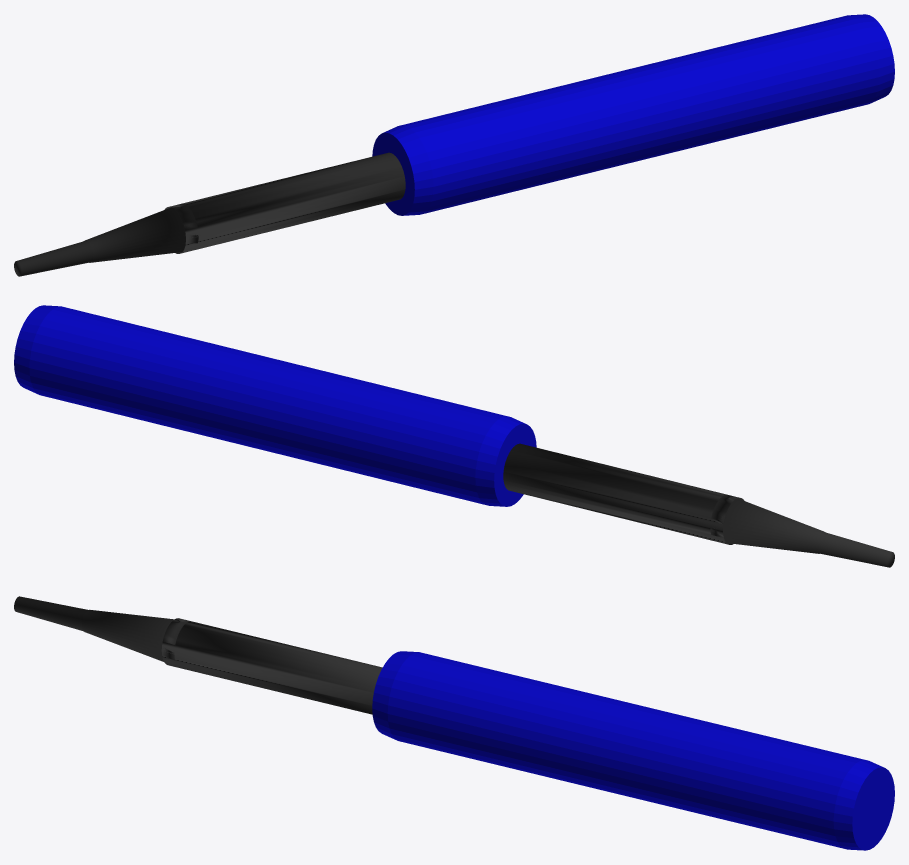
Rendered from SCREWDRIVER.obj.
The picture shows the model from 3 angles, top to bottom: view 1: azimuth 30°, elevation 25°; view 2: azimuth 150°, elevation 25°; view 3: azimuth 330°, elevation 25°; orthographic projection.
Visible parts, largest first — view 1: GRIP_HANDLE_Cylinder.005, SCREWDRIVER_Cylinder.006; view 2: GRIP_HANDLE_Cylinder.005, SCREWDRIVER_Cylinder.006; view 3: GRIP_HANDLE_Cylinder.005, SCREWDRIVER_Cylinder.006.
Boxes of the visible parts, x1,y1,x2,y2 form: GRIP_HANDLE_Cylinder.005: (372, 14, 894, 215); SCREWDRIVER_Cylinder.006: (14, 152, 405, 276); GRIP_HANDLE_Cylinder.005: (14, 305, 536, 506); SCREWDRIVER_Cylinder.006: (503, 443, 894, 567); GRIP_HANDLE_Cylinder.005: (372, 651, 894, 850); SCREWDRIVER_Cylinder.006: (14, 596, 382, 714).
Size of the model in its own units: 0.836 by 0.0787 by 0.0777.
